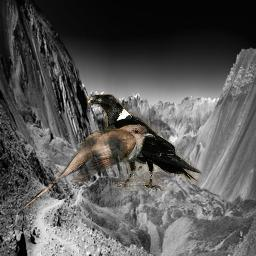Crow: (87, 94, 202, 191)
Cuckoo: (23, 123, 156, 209)
